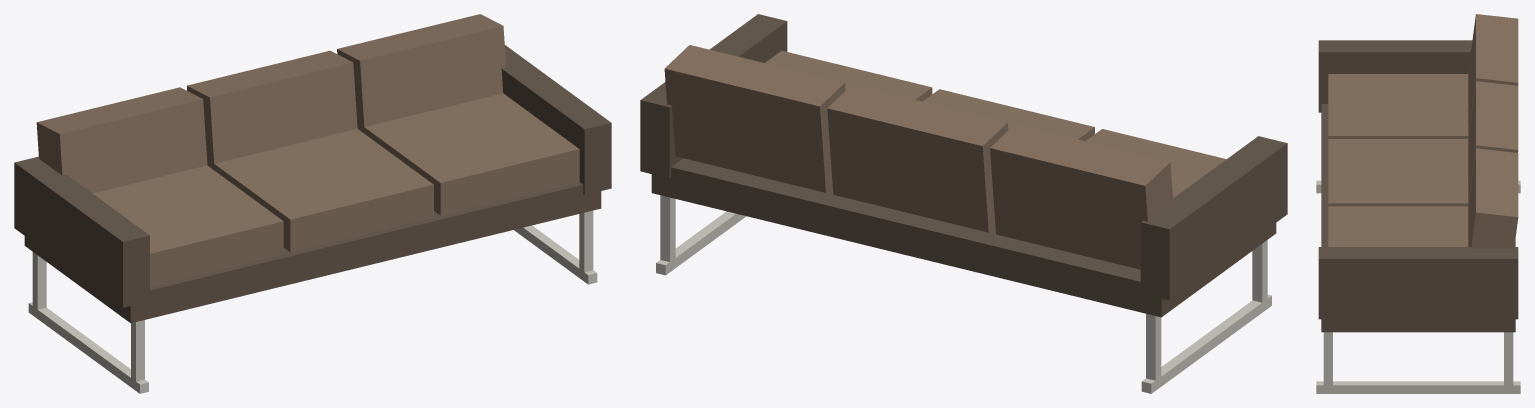
The model's file is sofa.glb.
The picture shows the model from 3 angles, left to right: view 1: azimuth 30°, elevation 25°; view 2: azimuth 150°, elevation 25°; view 3: azimuth 270°, elevation 25°; orthographic projection. The views are drawn at different scales.
Parts seen in each view (by area): view 1: sofa; view 2: sofa; view 3: sofa.
Part boxes in pixels (box(x1,y1,x2,y2)): sofa: box(14, 14, 611, 393); sofa: box(640, 14, 1287, 393); sofa: box(1316, 14, 1520, 393).
Size of the model in its own units: 2.18 by 0.8295 by 0.86.
